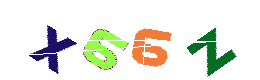6: (89, 0, 169, 80), (96, 0, 176, 80)
X: (66, 0, 146, 80)
Z: (104, 0, 184, 80)
